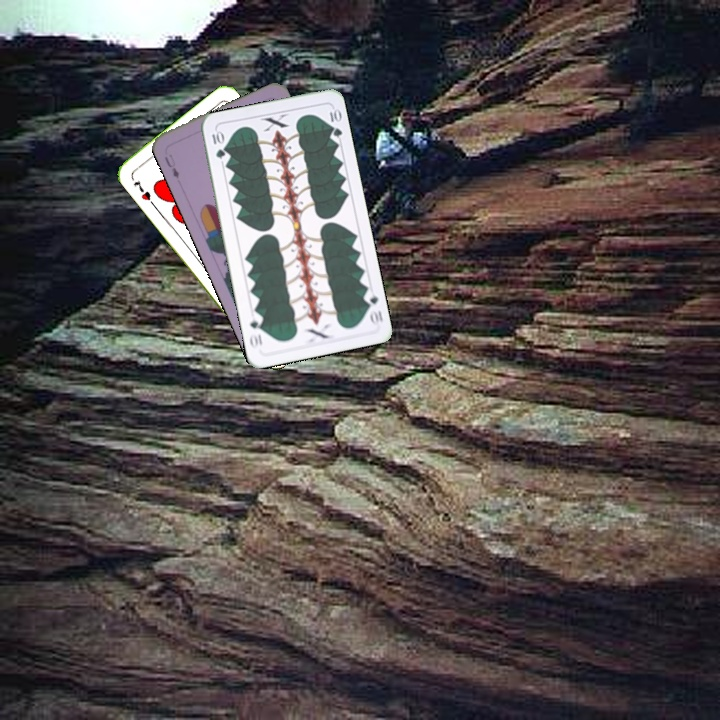EU: (160, 150, 182, 181)
G10: (360, 287, 385, 327), (208, 127, 228, 161)
H7: (129, 176, 153, 203)
